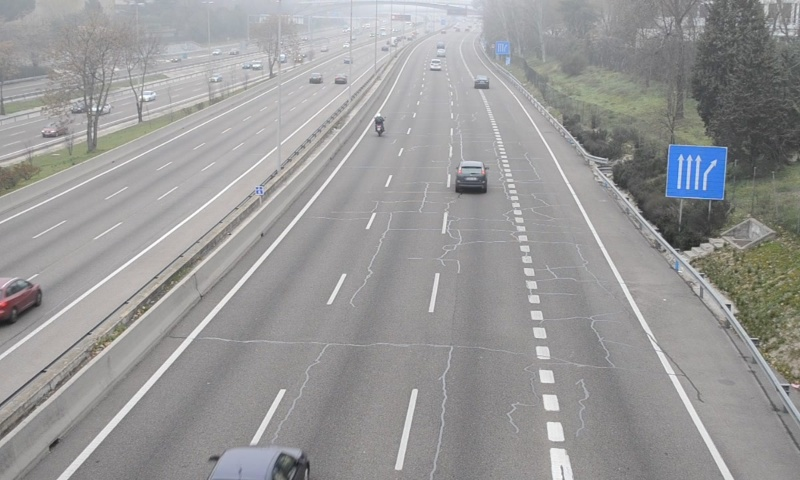car: (455, 160, 488, 194), (474, 76, 488, 89), (430, 59, 441, 71)
motorcycle: (373, 113, 385, 138)
